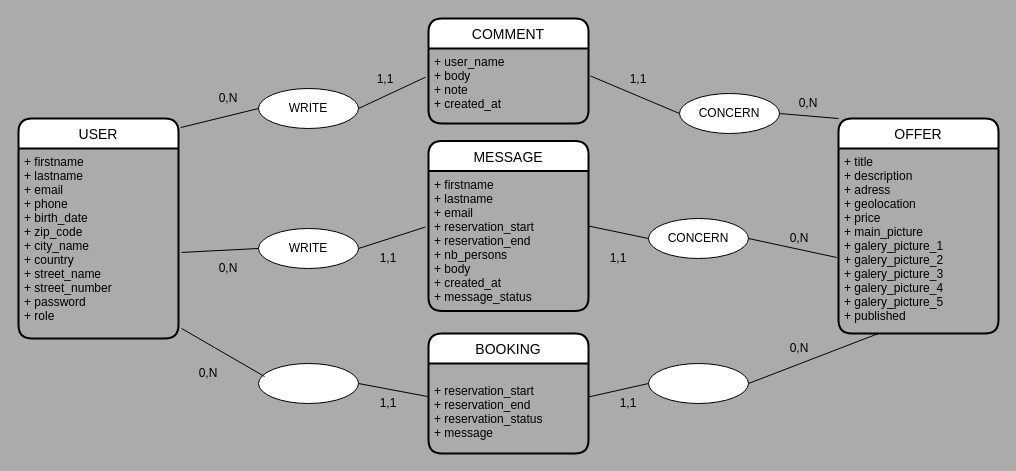
The diagram is 1016 pixels wide and 471 high, and some of its shapes have lost their labels. The centre of each missing label's shape, as x and y in pixels:
ASSOCIATE: point 698,383
CREATE: point 308,383
